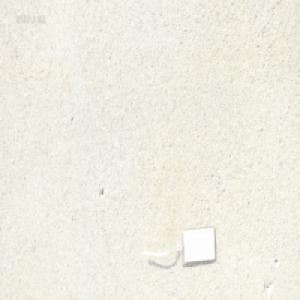LuggageTag: (139, 224, 216, 267)
